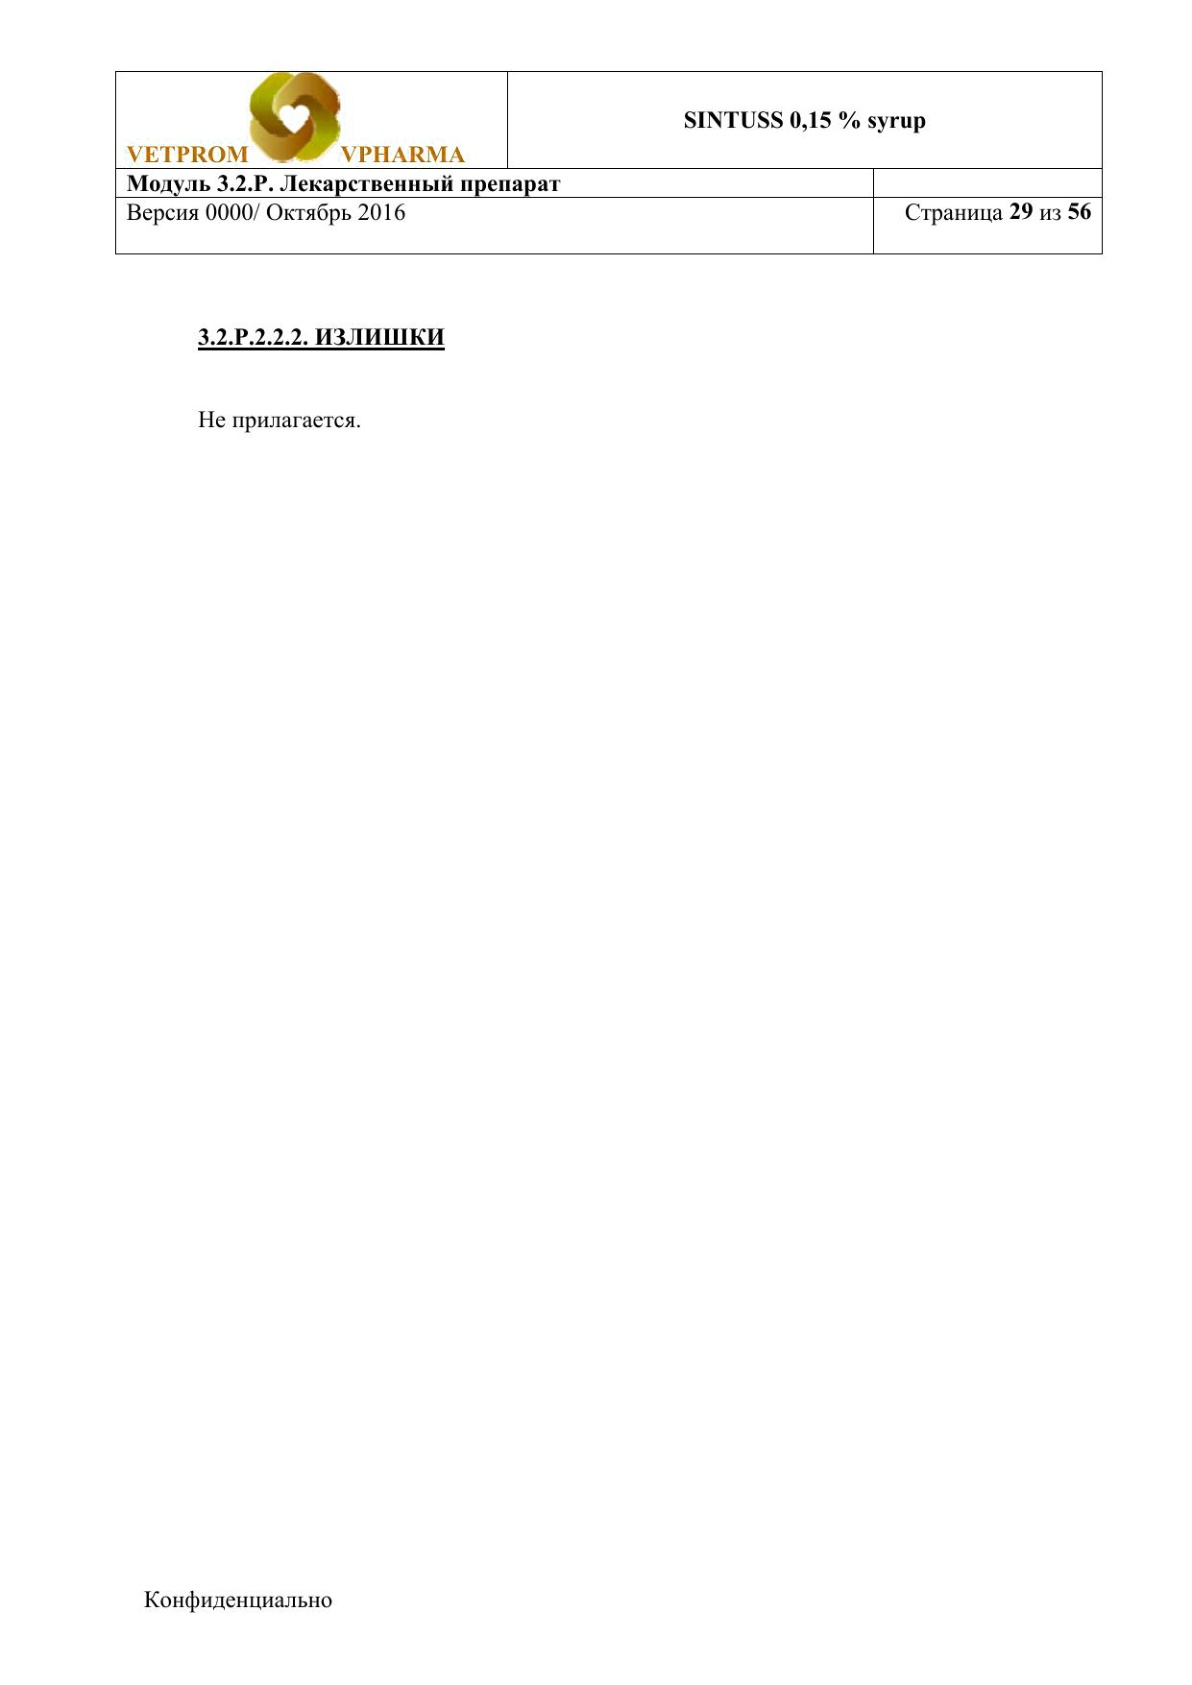merged_cells: (114, 70, 1104, 255)
